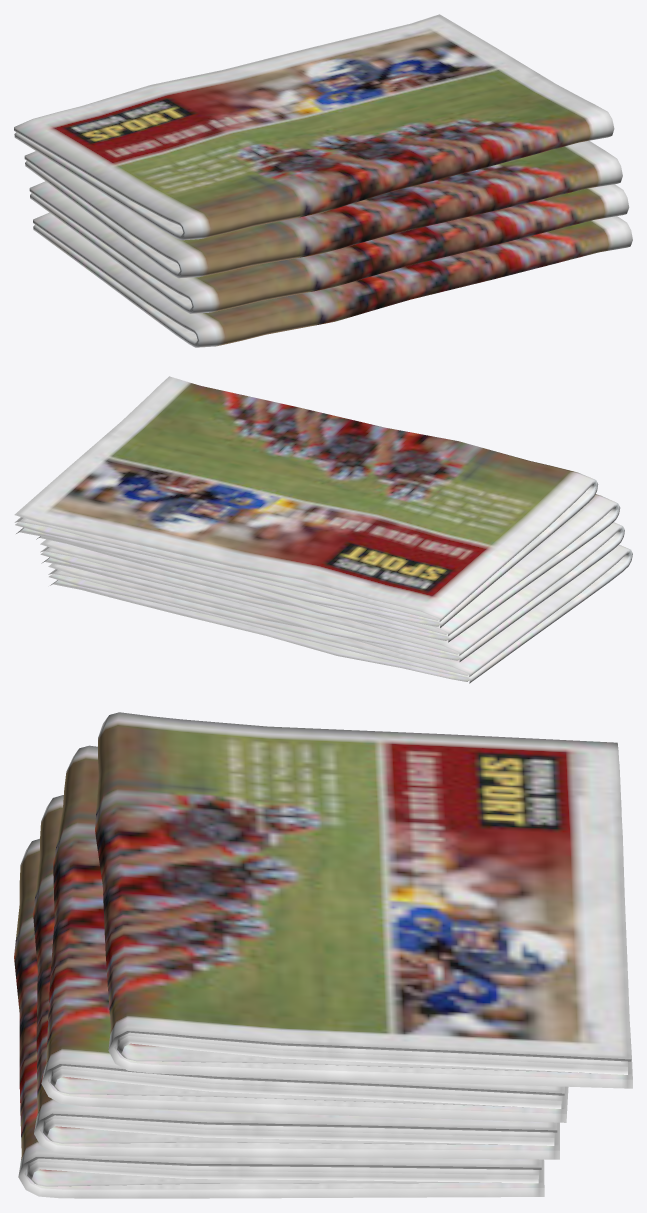
The model's file is sweethome3d-scopia-newspapers-pile.glb.
3 renders of one model, top to bottom at view 1: azimuth 30°, elevation 25°; view 2: azimuth 150°, elevation 25°; view 3: azimuth 270°, elevation 25°, orthographic. The views are drawn at different scales.
Parts seen in each view (by area): view 1: JournauxCourbeSportTop, JournauxCourbeSportThird, JournauxCourbeSportSecond, JournauxCourbeSportBase; view 2: JournauxCourbeSportTop, JournauxCourbeSportBase, JournauxCourbeSportSecond, JournauxCourbeSportThird; view 3: JournauxCourbeSportTop, JournauxCourbeSportThird, JournauxCourbeSportSecond, JournauxCourbeSportBase.
Boxes of the visible parts, x1,y1,x2,y2 form: JournauxCourbeSportTop: (14,14,614,240); JournauxCourbeSportThird: (24,140,622,278); JournauxCourbeSportSecond: (29,181,629,313); JournauxCourbeSportBase: (33,212,632,347); JournauxCourbeSportTop: (14,376,598,627); JournauxCourbeSportBase: (48,544,632,683); JournauxCourbeSportSecond: (40,522,624,661); JournauxCourbeSportThird: (36,494,620,642); JournauxCourbeSportTop: (95,712,632,1088); JournauxCourbeSportThird: (41,745,568,1122); JournauxCourbeSportSecond: (33,795,559,1159); JournauxCourbeSportBase: (14,838,544,1198).
Bounding box in the file's own units: 30.1 × 7.7 × 23.57.
4 materials, 4 textured.
